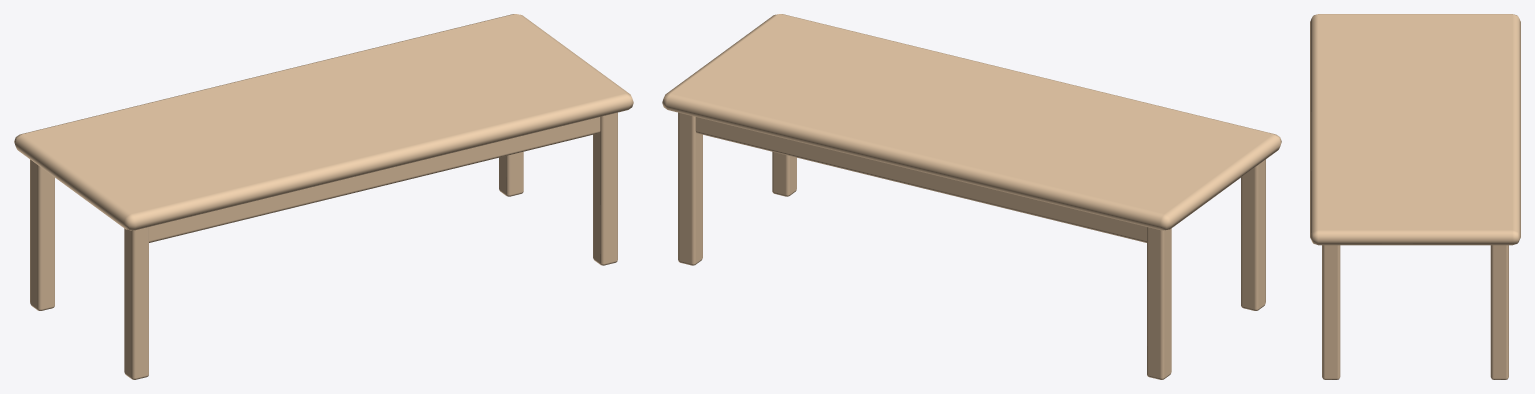
The model's file is show_study_desk.glb.
3 views of the same model, side by side, from view 1: azimuth 30°, elevation 25°; view 2: azimuth 150°, elevation 25°; view 3: azimuth 270°, elevation 25° (orthographic). The views are drawn at different scales.
Size of the model in its own units: 3.5 by 1.12 by 1.4.
